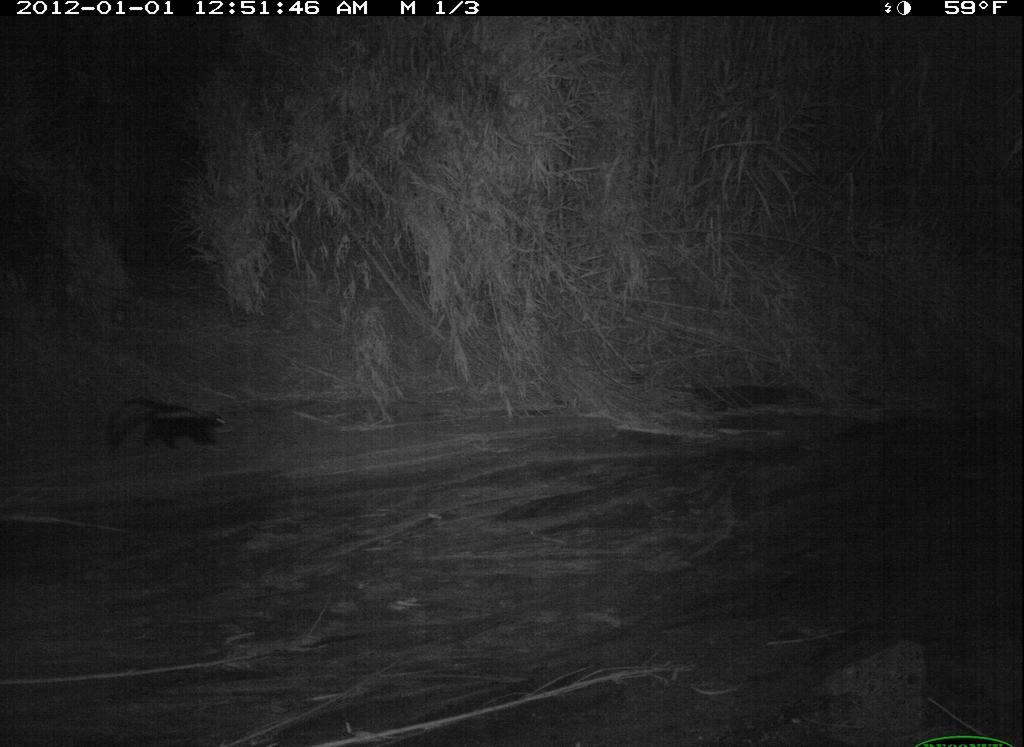skunk: (88, 387, 303, 509)
